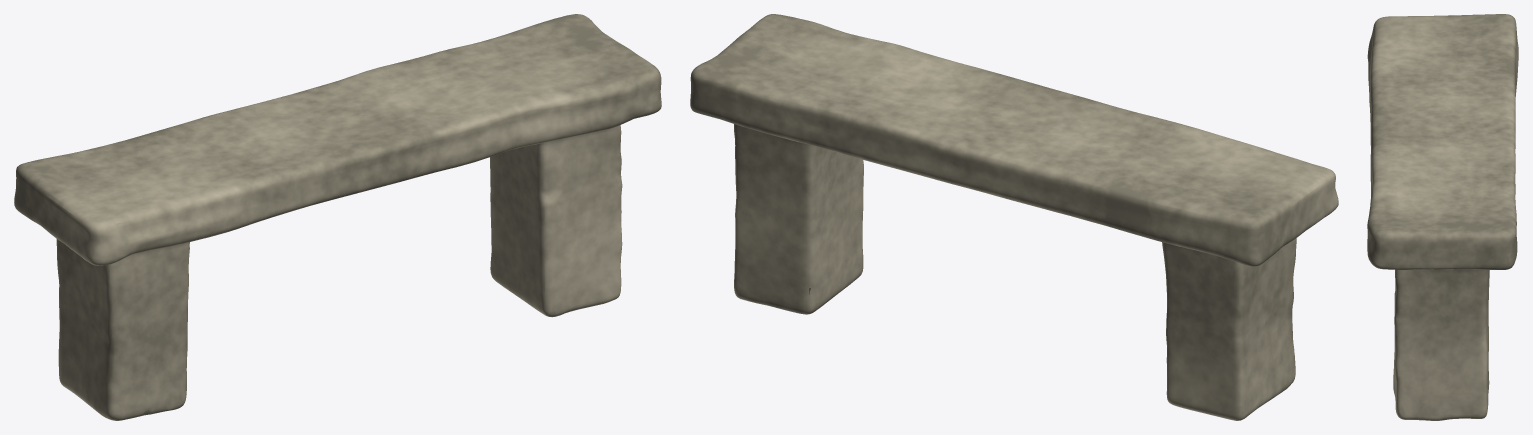
The model's file is stone-bench-v001.glb.
3 renders of one model, left to right at view 1: azimuth 30°, elevation 25°; view 2: azimuth 150°, elevation 25°; view 3: azimuth 270°, elevation 25°, orthographic. The views are drawn at different scales.
Visible parts, largest first — view 1: stone-bench; view 2: stone-bench; view 3: stone-bench.
Part boxes in pixels (<box>): stone-bench: <box>14,14,661,420</box>; stone-bench: <box>690,14,1338,420</box>; stone-bench: <box>1367,14,1518,420</box>.
Bounding box in the file's own units: 1.14 × 0.45 × 0.309.
Materials: 1 (1 with a texture image).
